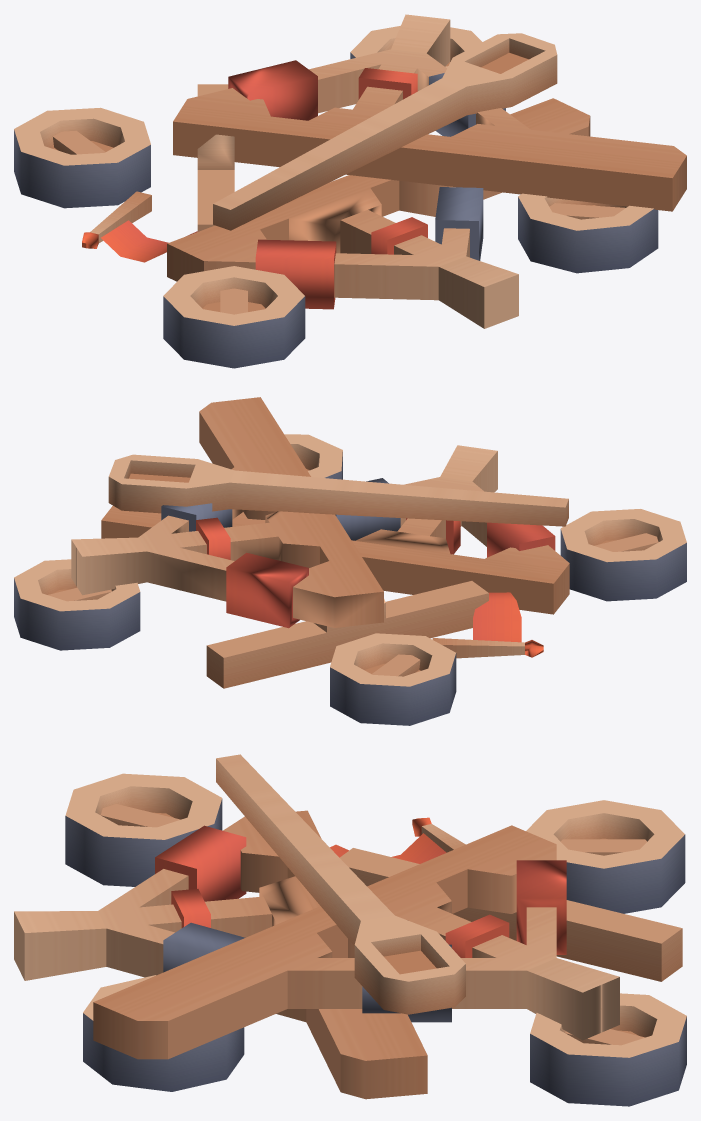
The model's file is siege-catapult-demolished.fbx.
3 views of the same model, one above another, from view 1: azimuth 30°, elevation 25°; view 2: azimuth 150°, elevation 25°; view 3: azimuth 270°, elevation 25° (orthographic). The views are drawn at different scales.
Parts seen in each view (by area): view 1: siege-catapult-demolished; view 2: siege-catapult-demolished; view 3: siege-catapult-demolished.
Part boxes in pixels (left/top/right/bottom): siege-catapult-demolished: left=14, top=14, right=686, bottom=368; siege-catapult-demolished: left=14, top=397, right=686, bottom=725; siege-catapult-demolished: left=14, top=754, right=686, bottom=1106.
Size of the model in its own units: 1.68 by 1.67 by 0.3213.
